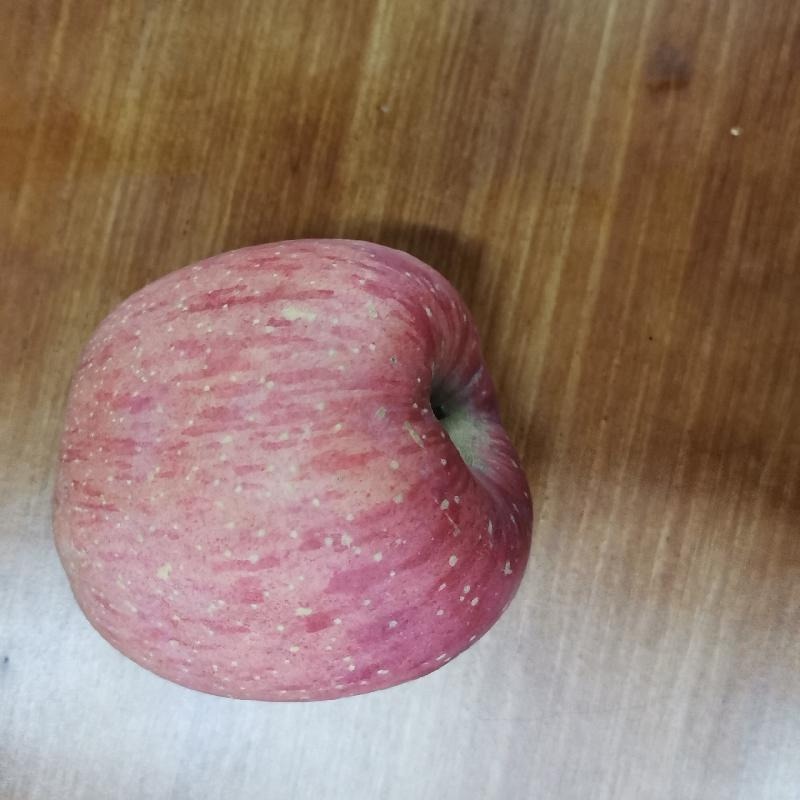apples: (37, 237, 547, 704)
